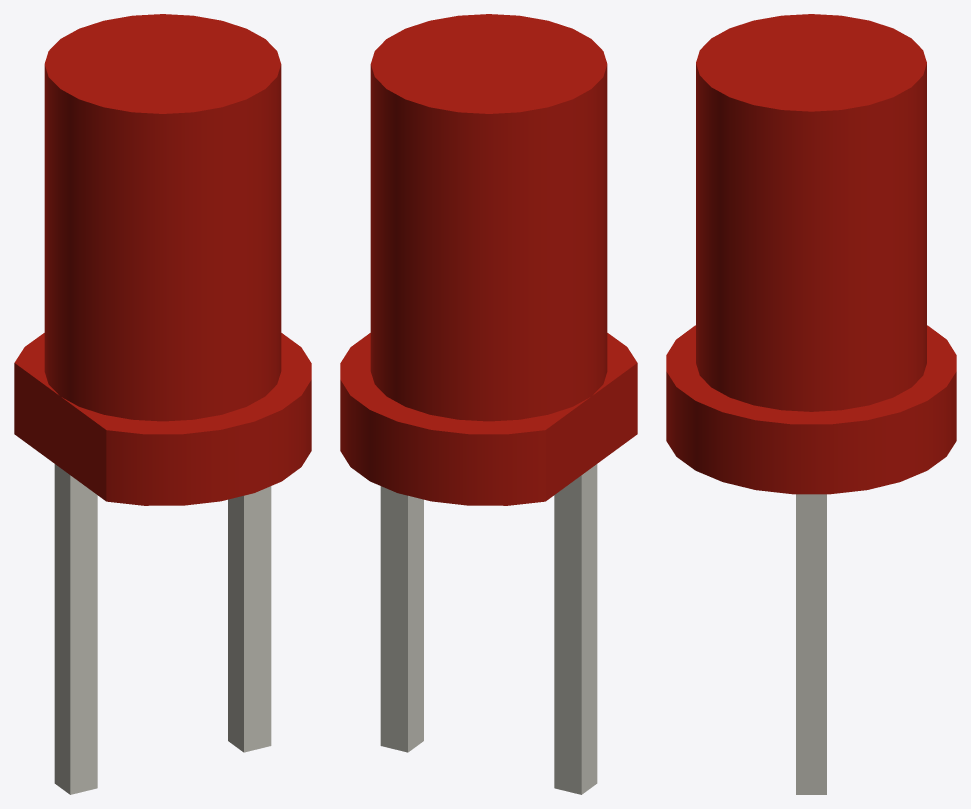
File: LED_THT__LED_D3.0mm_FlatTop.glb
3 views of the same model, side by side, from view 1: azimuth 30°, elevation 25°; view 2: azimuth 150°, elevation 25°; view 3: azimuth 270°, elevation 25° (orthographic). The views are drawn at different scales.
Parts seen in each view (by area): view 1: LED_D3.0mm_FlatTop; view 2: LED_D3.0mm_FlatTop; view 3: LED_D3.0mm_FlatTop.
Boxes of the visible parts, bbox=[...] form: LED_D3.0mm_FlatTop: bbox=[14, 14, 311, 794]; LED_D3.0mm_FlatTop: bbox=[340, 14, 637, 794]; LED_D3.0mm_FlatTop: bbox=[666, 14, 956, 794].
Bounding box in the file's own units: 0.00338 × 0.0098 × 0.00377.
